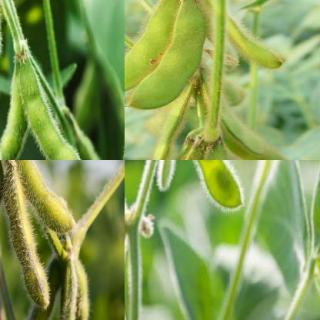soya: (128, 0, 206, 110), (3, 163, 52, 309), (20, 59, 82, 160), (124, 0, 178, 92), (14, 160, 78, 234), (148, 85, 193, 159), (224, 109, 289, 160), (12, 259, 62, 319), (187, 160, 245, 211), (228, 17, 282, 68), (0, 75, 28, 159), (52, 258, 78, 319), (75, 258, 92, 319)
